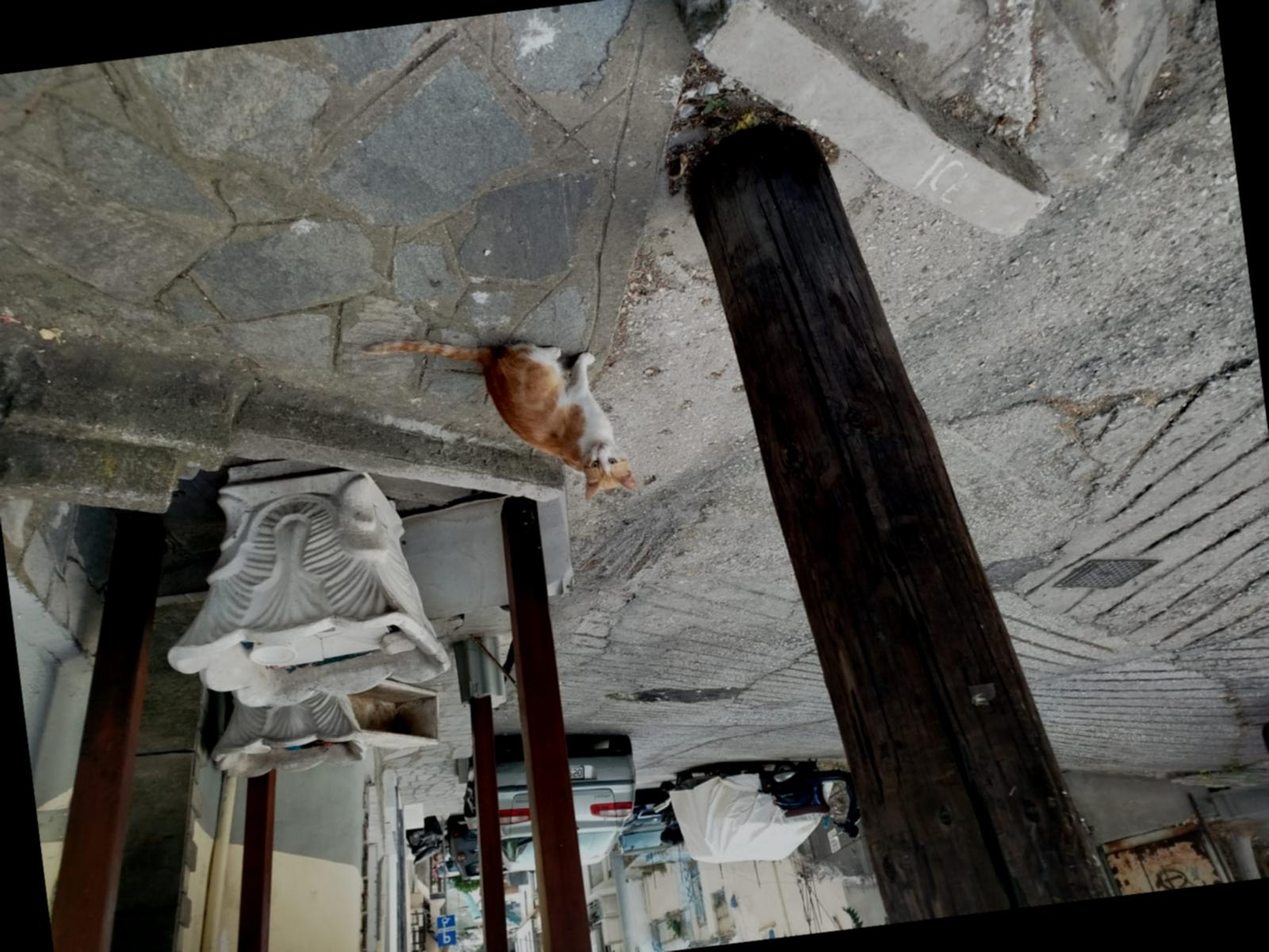macka: (363, 312, 637, 526)
